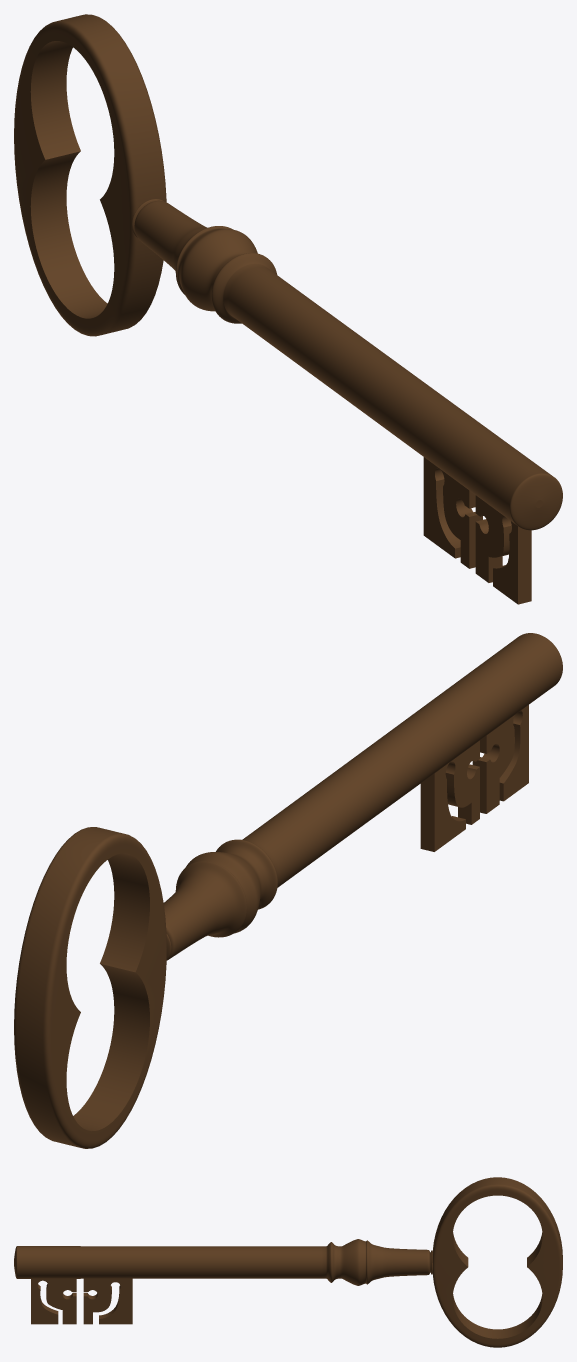
File: Key.gltf
3 views of the same model, one above another, from view 1: azimuth 30°, elevation 25°; view 2: azimuth 150°, elevation 25°; view 3: azimuth 270°, elevation 25° (orthographic). The views are drawn at different scales.
Parts seen in each view (by area): view 1: Line001_Material #30_0, Cylinder004_Material #30_0, Box007_Material #30_0; view 2: Cylinder004_Material #30_0, Line001_Material #30_0, Box007_Material #30_0; view 3: Line001_Material #30_0, Cylinder004_Material #30_0, Box007_Material #30_0.
Part boxes in pixels (x1=…): Line001_Material #30_0: x1=132, y1=199, x2=562, y2=530; Cylinder004_Material #30_0: x1=14, y1=14, x2=166, y2=336; Box007_Material #30_0: x1=423, y1=457, x2=531, y2=604; Cylinder004_Material #30_0: x1=14, y1=827, x2=166, y2=1148; Line001_Material #30_0: x1=163, y1=633, x2=562, y2=960; Box007_Material #30_0: x1=420, y1=705, x2=528, y2=851; Line001_Material #30_0: x1=14, y1=1239, x2=432, y2=1285; Cylinder004_Material #30_0: x1=432, y1=1177, x2=562, y2=1347; Box007_Material #30_0: x1=31, y1=1278, x2=132, y2=1324.
Size of the model in its own units: 5.49 by 21.07 by 64.24.
